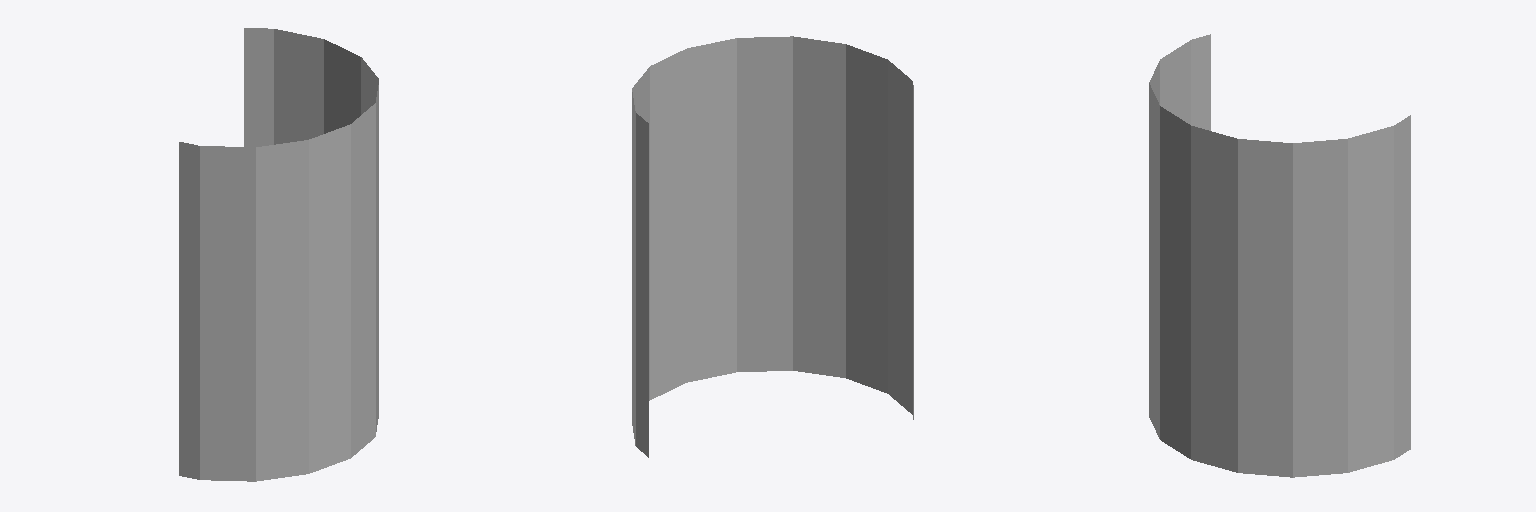
Rendered from table6-2.obj.
3 renders of one model, left to right at view 1: azimuth 30°, elevation 25°; view 2: azimuth 150°, elevation 25°; view 3: azimuth 270°, elevation 25°, orthographic.
Bounding box in the file's own units: 2.57 × 3.67 × 2.61.